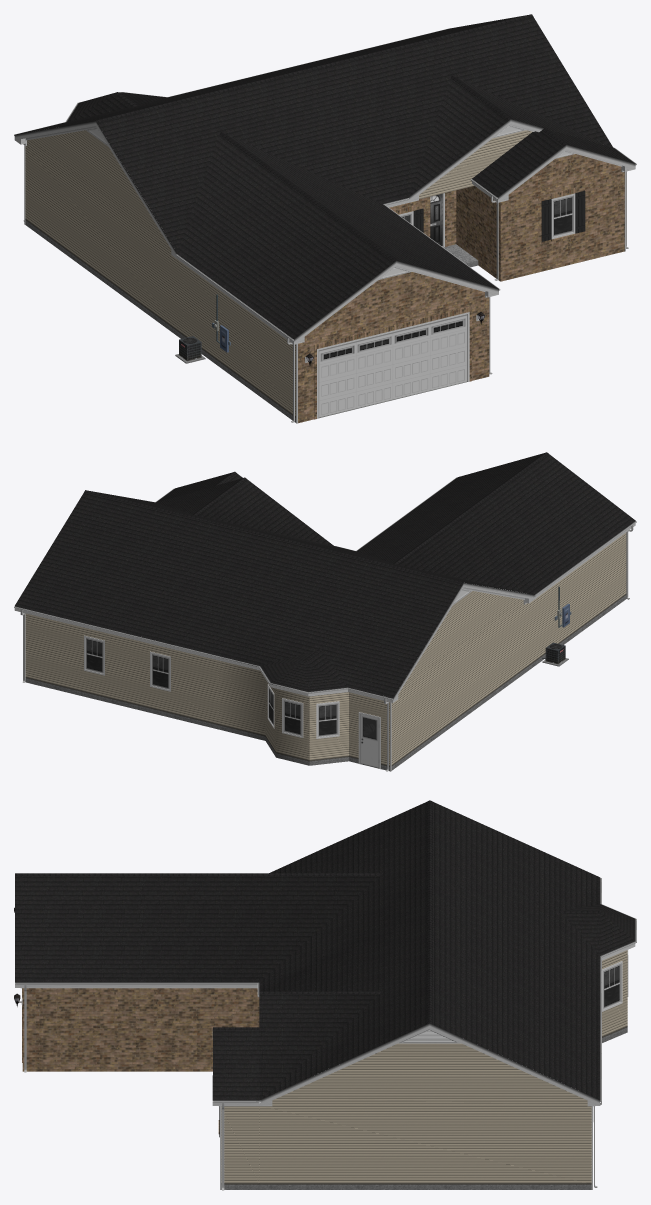
File: house9_mirror2.fbx
The picture shows the model from 3 angles, top to bottom: view 1: azimuth 30°, elevation 25°; view 2: azimuth 150°, elevation 25°; view 3: azimuth 270°, elevation 25°; orthographic projection. The views are drawn at different scales.
Parts seen in each view (by area): view 1: house9_mirror2_LOD0; view 2: house9_mirror2_LOD0; view 3: house9_mirror2_LOD0.
Boxes of the visible parts, left/top/right/bottom form: house9_mirror2_LOD0: left=14, top=14, right=636, bottom=423; house9_mirror2_LOD0: left=14, top=452, right=636, bottom=771; house9_mirror2_LOD0: left=14, top=800, right=636, bottom=1190.
Size of what is drawn, in the model's own units: 4.71 by 1.61 by 5.35.
